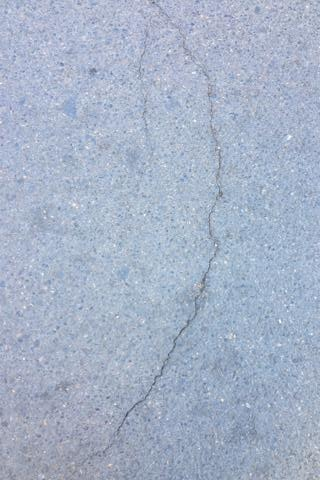A: (107, 19, 228, 460)
